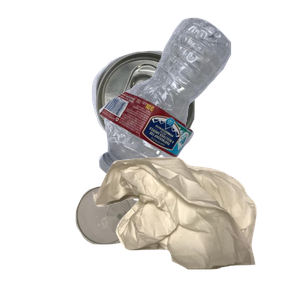glass: (73, 184, 214, 300)
metal: (89, 48, 276, 192)
plastic: (96, 15, 300, 184)
trash: (90, 155, 300, 300)
